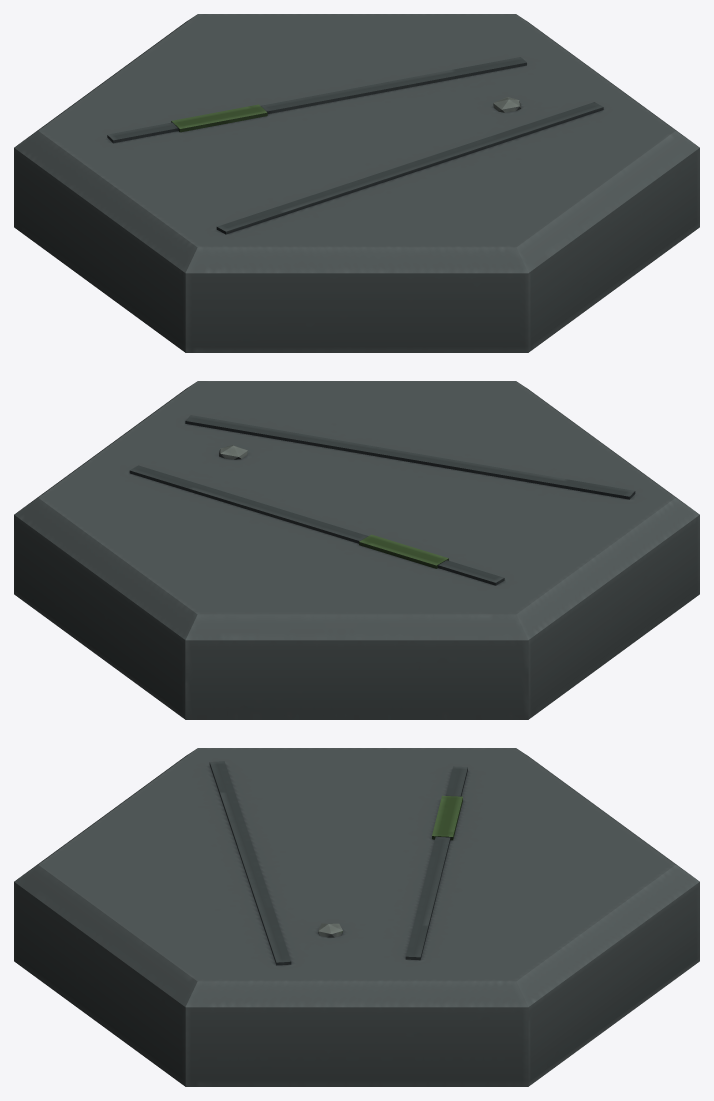
File: tile_hex_stone_c.glb
The picture shows the model from 3 angles, top to bottom: view 1: azimuth 30°, elevation 25°; view 2: azimuth 150°, elevation 25°; view 3: azimuth 270°, elevation 25°; orthographic projection.
Visible parts, largest first — view 1: tile_hex_stone_c; view 2: tile_hex_stone_c; view 3: tile_hex_stone_c.
Part boxes in pixels (x1,y1,x2,y2): tile_hex_stone_c: (14, 14, 699, 352); tile_hex_stone_c: (14, 381, 699, 719); tile_hex_stone_c: (14, 748, 699, 1086).
Size of the model in its own units: 1.12 by 0.2167 by 1.29.
Materials: 1 (1 with a texture image).
